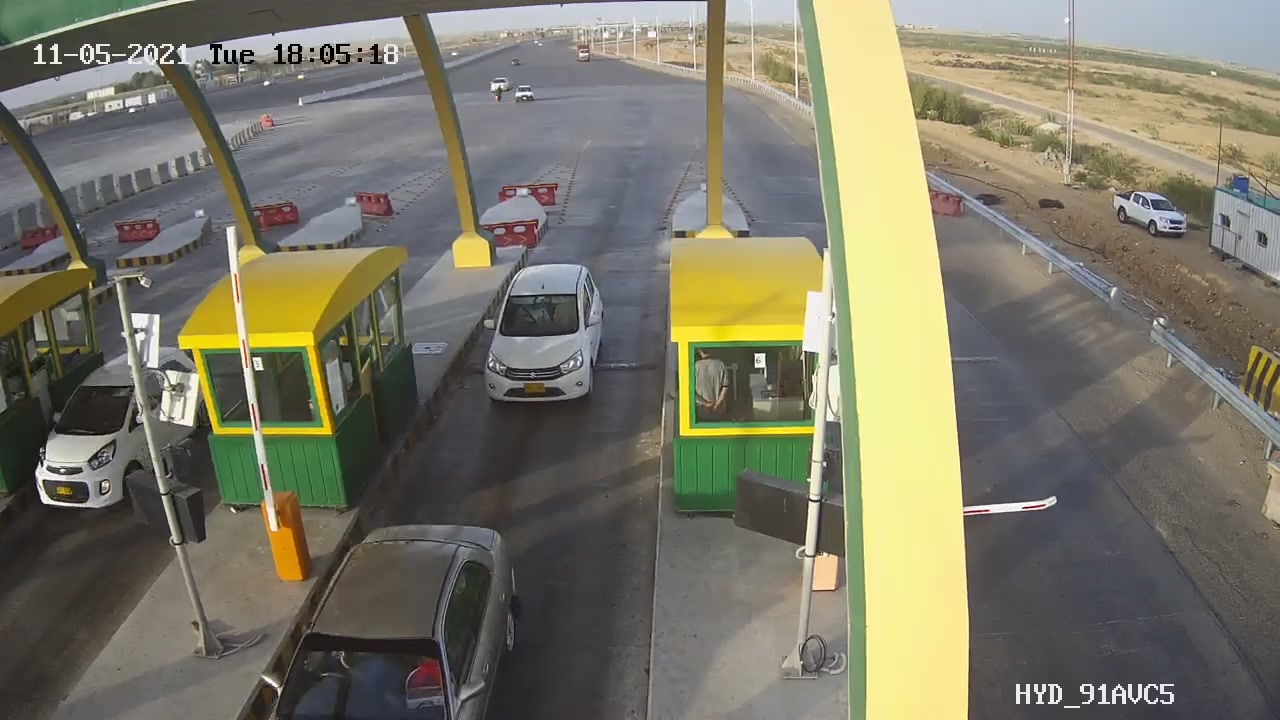F1: (461, 252, 638, 431)
